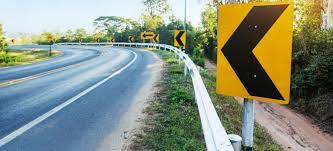left turn: (216, 4, 289, 102), (174, 30, 186, 47), (141, 32, 153, 38), (152, 34, 159, 43), (110, 38, 115, 43), (129, 36, 133, 42)
